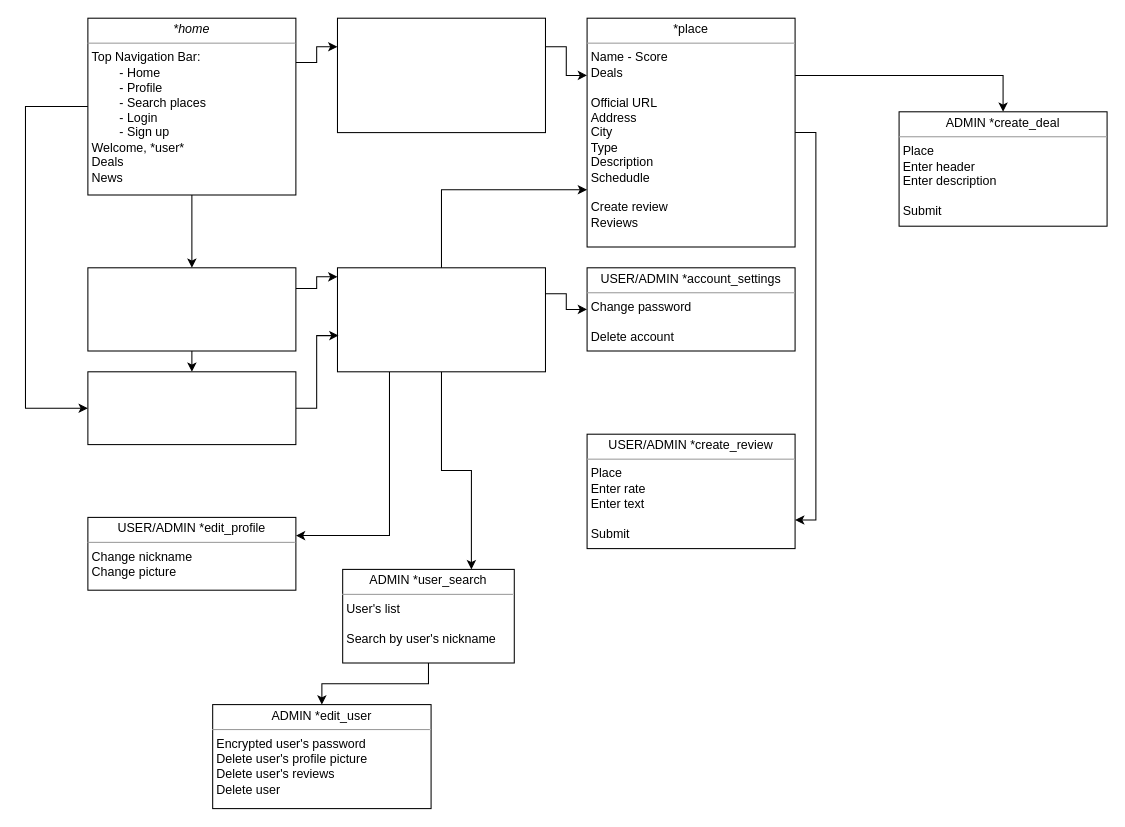
Some shapes in this 1125 by 827 pixel diagram are drawn without their labels. Here are the shapes that lost their labels. From the top down, the centre of each, then its label:
At (440,75): "*search Filters: - Type - Town List of Places".
At (191,309): "*l ogin Log in: Enter username Enter password".
At (440,319): "USER/ADMIN *profile Name / Fursona Profile picture Reviews".
At (191,408): "*sign up Enter username Enter password".
